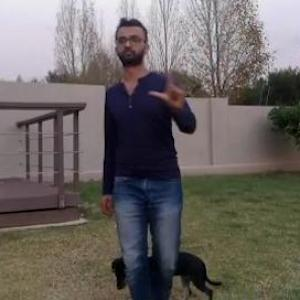land_hand: (148, 57, 193, 107)
